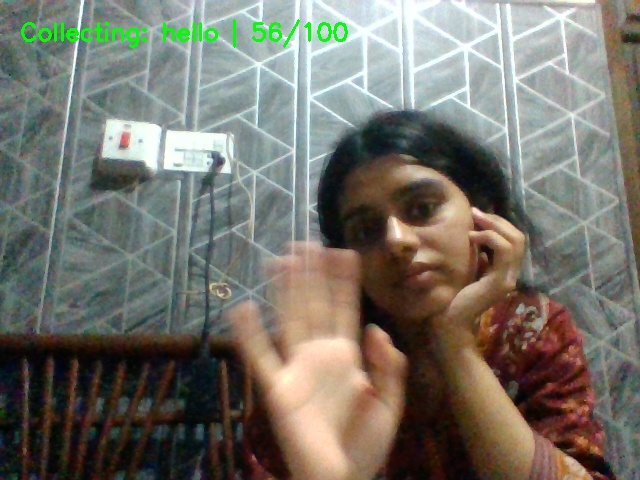hello: (218, 246, 422, 472)
